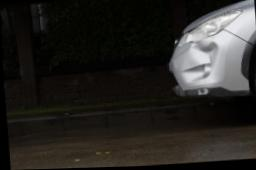Bumper: (171, 35, 227, 89)
